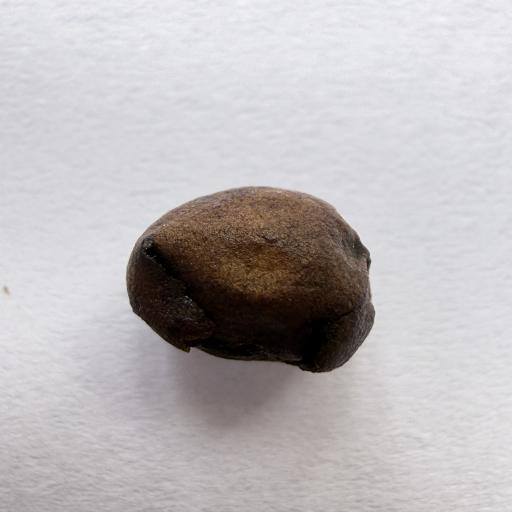Black_pepper: (107, 155, 394, 376)
